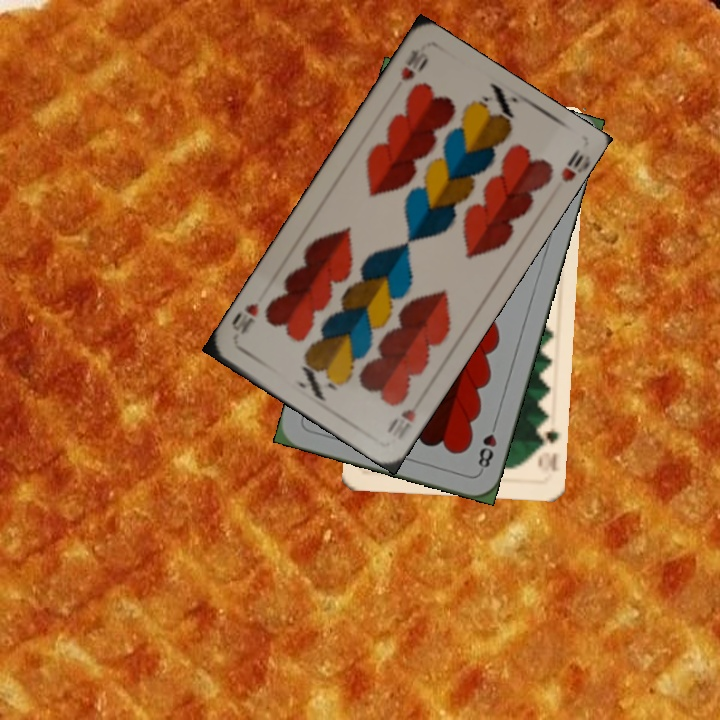G10: (533, 426, 561, 474)
H10: (383, 390, 428, 442), (396, 43, 431, 83)
H8: (474, 416, 500, 474)
